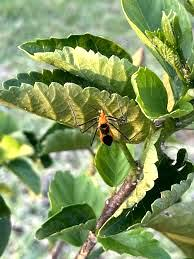Helopeltis-insect: (90, 109, 122, 147)
